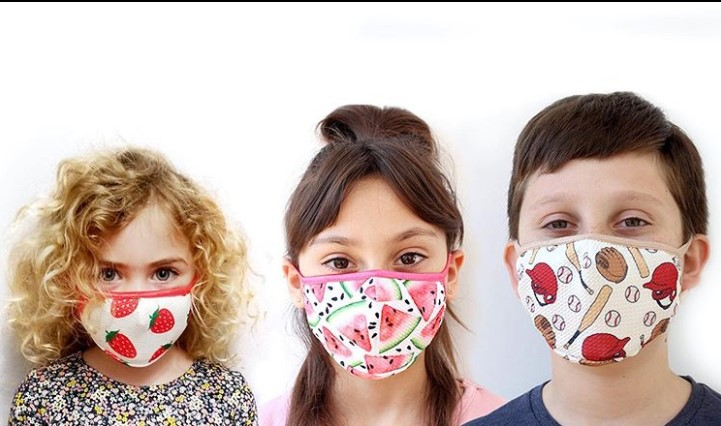face_with_mask: (502, 91, 717, 368), (279, 144, 465, 379), (60, 163, 207, 370)
